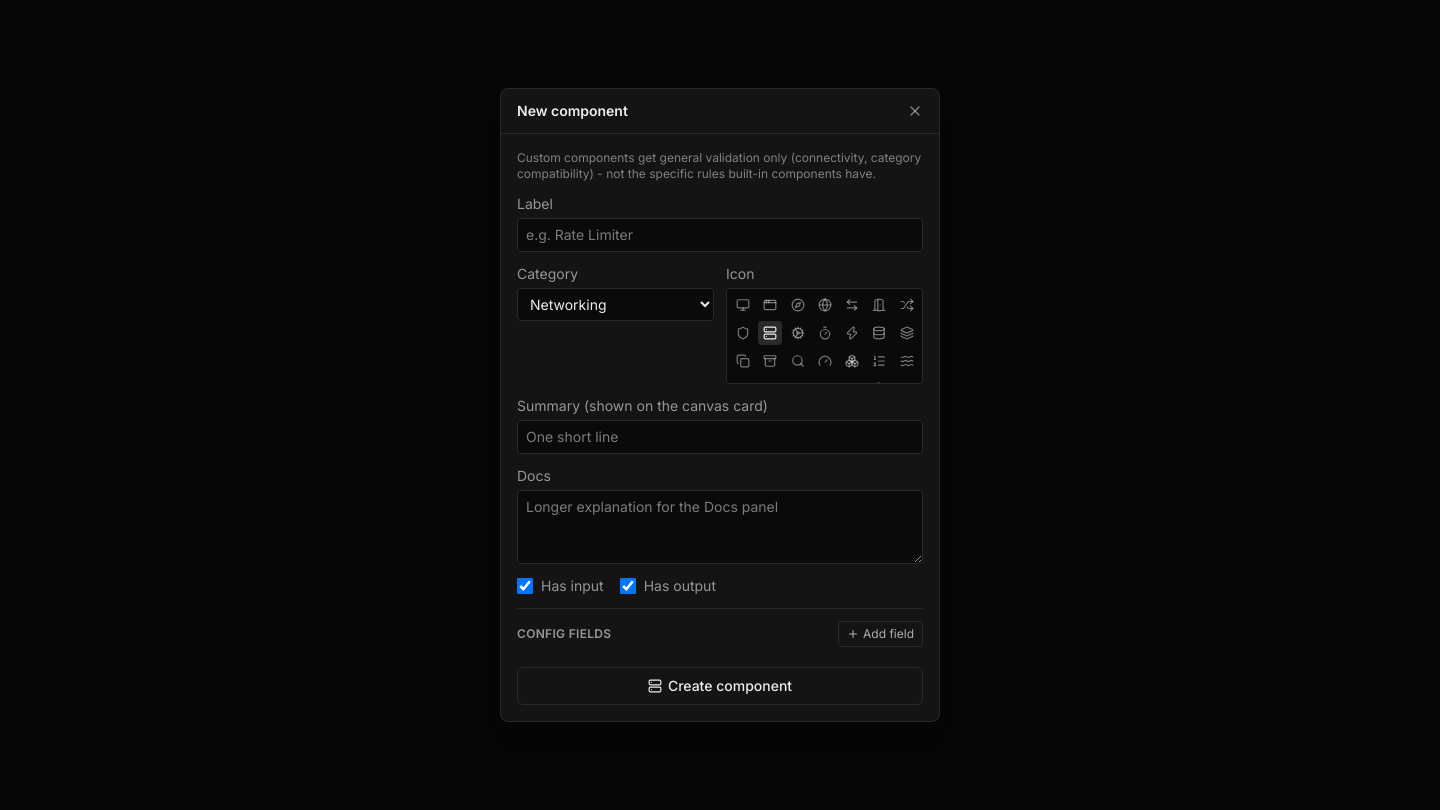
CreateComponentModal › shows an error and does not save when Label is left blank
Click the button "Create component": (720, 686) x1=517 y1=667 x2=923 y2=705
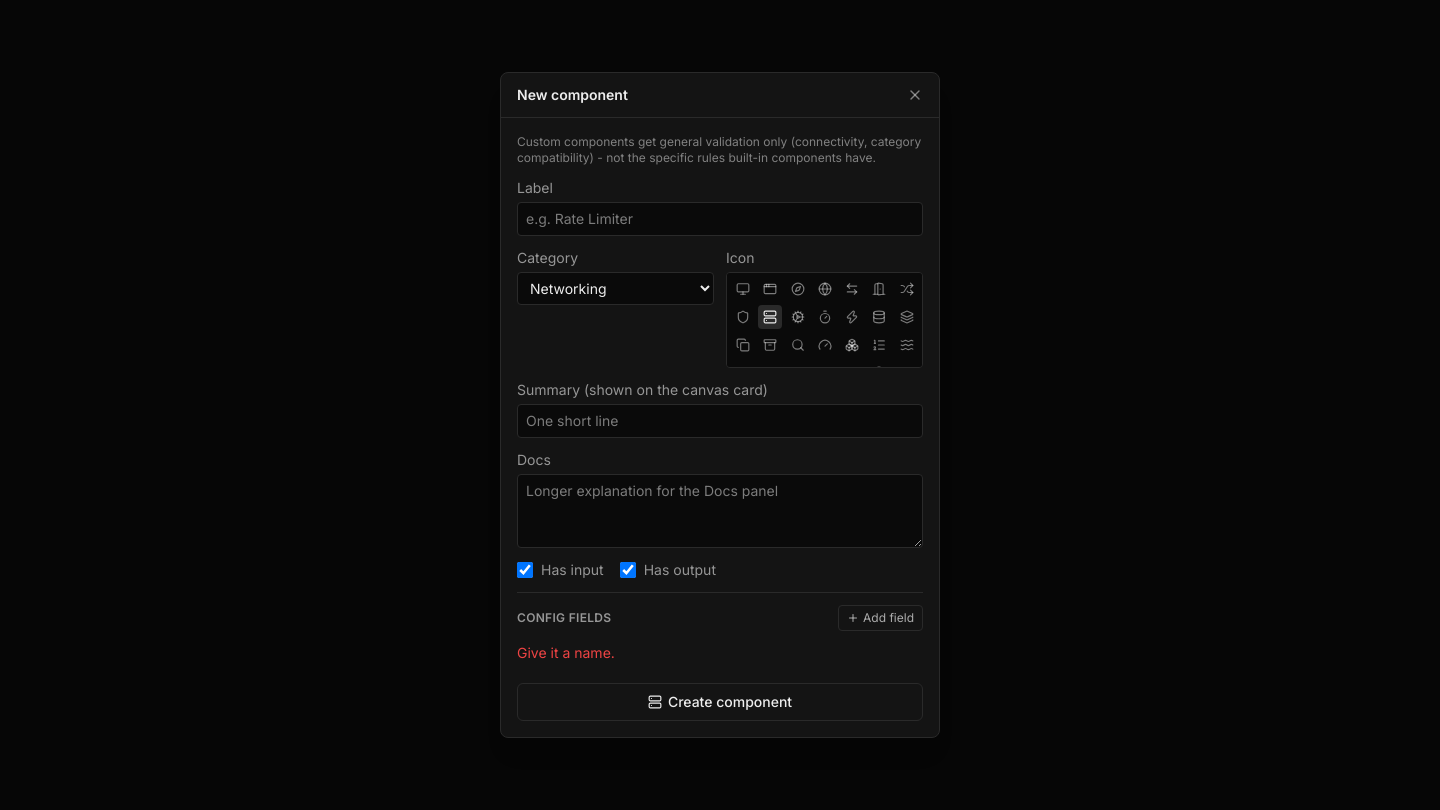
Check: the text "Give it a name." is shown, box x1=517 y1=644 x2=615 y2=661
